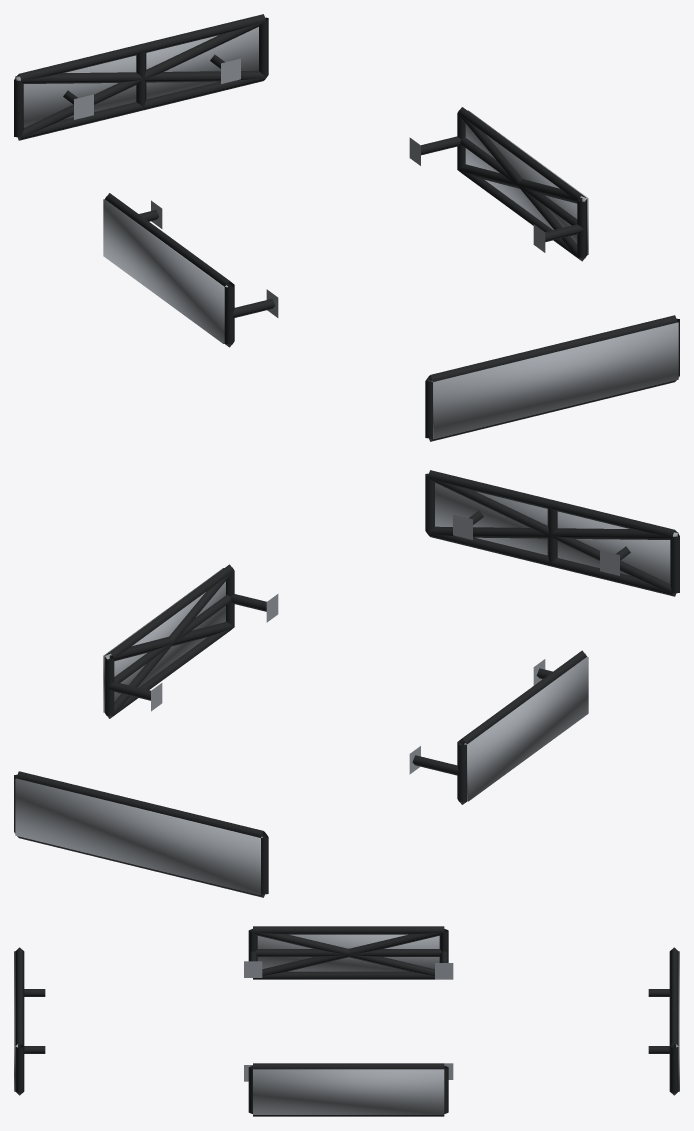
File: tomoe_cipo_protecao.glb
The picture shows the model from 3 angles, top to bottom: view 1: azimuth 30°, elevation 25°; view 2: azimuth 150°, elevation 25°; view 3: azimuth 270°, elevation 25°; orthographic projection. The views are drawn at different scales.
Parts seen in each view (by area): view 1: Protection_front_Level3_Details, Protection_left_Level3_Details, Protection_rear_Level1_Details, Protection_rear_Level3_Details, Protection_rear_Level2_Details, Protection_right_Level1_Details, Protection_right_Level2_Details, Protection_front_Level1_Details, Protection_left_Level1_Details, Protection_right_Level3_Details; view 2: Protection_rear_Level3_Details, Protection_left_Level3_Details, Protection_front_Level1_Details, Protection_front_Level3_Details, Protection_front_Level2_Details, Protection_right_Level1_Details, Protection_right_Level2_Details, Protection_rear_Level1_Details, Protection_left_Level1_Details, Protection_right_Level3_Details; view 3: Protection_right_Level3_Details, Protection_left_Level1_Details, Protection_left_Level2_Details, Protection_left_Level3_Details, Protection_right_Level1_Details, Protection_rear_Level1_Details, Protection_front_Level1_Details.
Boxes of the visible parts, box(x1,y1,x2,y2) form: Protection_front_Level3_Details: box(431, 322, 678, 439); Protection_left_Level3_Details: box(103, 199, 227, 343); Protection_rear_Level1_Details: box(14, 14, 268, 140); Protection_rear_Level3_Details: box(15, 27, 258, 127); Protection_rear_Level2_Details: box(16, 21, 265, 139); Protection_right_Level1_Details: box(409, 107, 587, 261); Protection_right_Level2_Details: box(457, 114, 585, 260); Protection_front_Level1_Details: box(425, 315, 679, 441); Protection_left_Level1_Details: box(105, 193, 278, 347); Protection_right_Level3_Details: box(465, 110, 588, 255); Protection_rear_Level3_Details: box(15, 778, 262, 895); Protection_left_Level3_Details: box(464, 656, 588, 801); Protection_front_Level1_Details: box(425, 470, 679, 596); Protection_front_Level3_Details: box(435, 483, 678, 583); Protection_front_Level2_Details: box(428, 477, 677, 595); Protection_right_Level1_Details: box(104, 564, 278, 718); Protection_right_Level2_Details: box(105, 571, 234, 718); Protection_rear_Level1_Details: box(14, 771, 268, 897); Protection_left_Level1_Details: box(409, 650, 586, 804); Protection_right_Level3_Details: box(103, 568, 225, 712); Protection_right_Level3_Details: box(253, 1069, 444, 1114); Protection_left_Level1_Details: box(244, 926, 453, 979); Protection_left_Level2_Details: box(252, 930, 444, 975); Protection_left_Level3_Details: box(257, 934, 439, 971); Protection_right_Level1_Details: box(244, 1063, 453, 1116); Protection_rear_Level1_Details: box(648, 947, 678, 1095); Protection_front_Level1_Details: box(15, 947, 45, 1095).
Bounding box in the file's own units: 2.02 × 0.354 × 4.01.
1 material, 1 textured.
